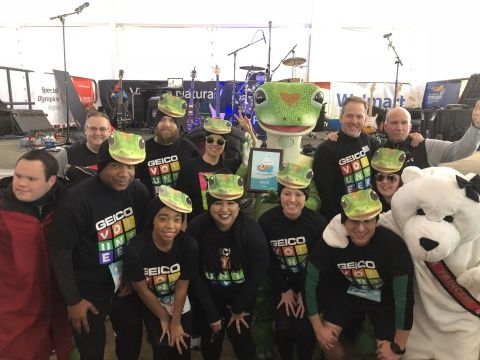geico: (94, 202, 141, 230), (265, 233, 308, 252), (335, 257, 376, 275), (140, 260, 182, 277), (336, 148, 368, 170), (144, 152, 182, 168)
